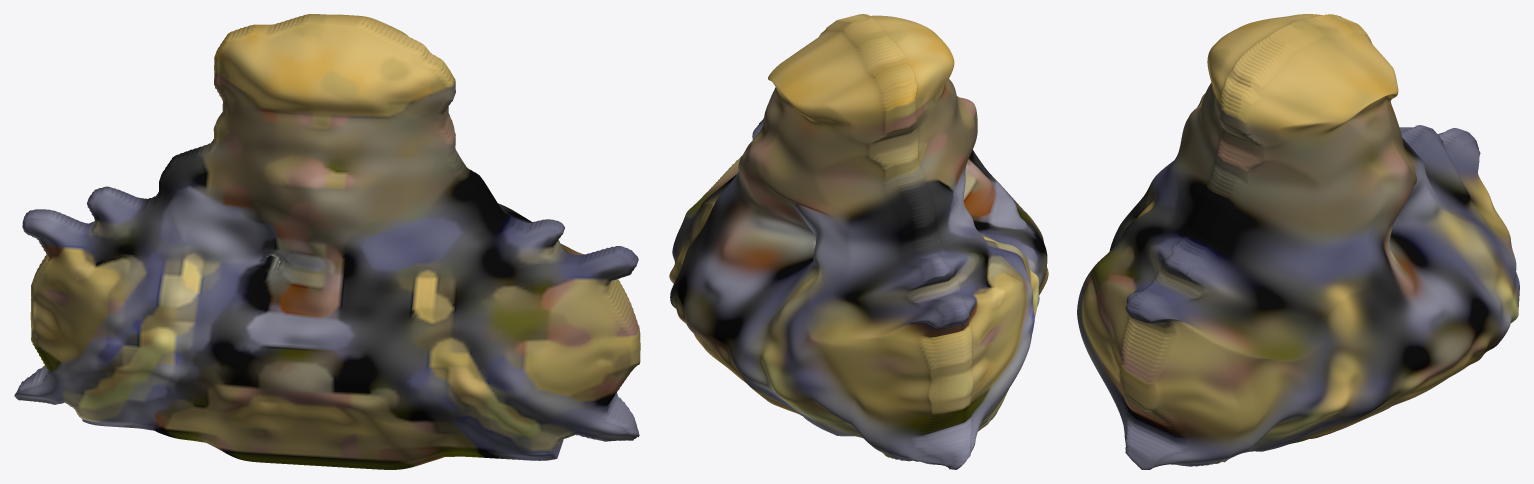
Rendered from yuri_gatling_cannon.glb.
3 views of the same model, side by side, from view 1: azimuth 30°, elevation 25°; view 2: azimuth 150°, elevation 25°; view 3: azimuth 270°, elevation 25° (orthographic). The views are drawn at different scales.
Parts seen in each view (by area): view 1: yuri_gatling_cannon; view 2: yuri_gatling_cannon; view 3: yuri_gatling_cannon.
Part boxes in pixels (x1,y1,x2,y2): yuri_gatling_cannon: (14, 14, 640, 469); yuri_gatling_cannon: (669, 14, 1048, 469); yuri_gatling_cannon: (1077, 14, 1519, 469).
Size of the model in its own units: 1.83 by 1.57 by 1.8.
